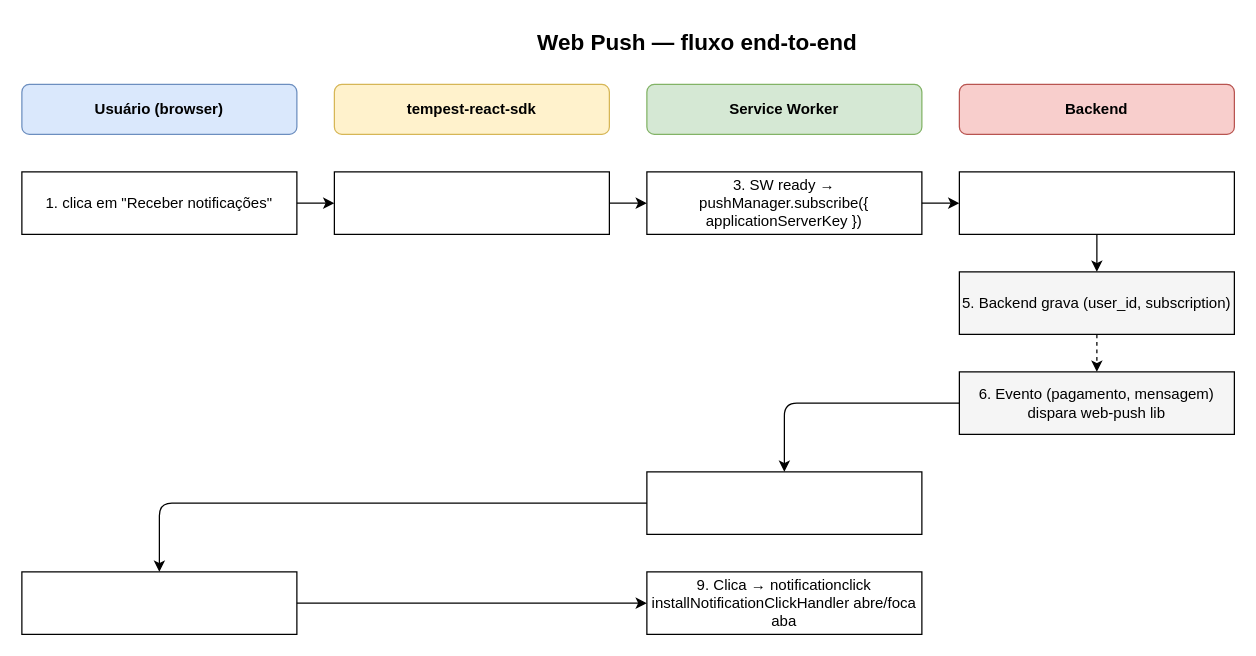
Some shapes in this 1256 by 656 pixel diagram are drawn without their labels. Each missing label, with the centre of its shape:
2. push.subscribe() Notification.requestPermission(): point 471,202
4. onSubscribe(subscription.toJSON()) POST /webpush/subscribe: point 1096,202
7. push event chega no SW installPushHandler → showNotification: point 784,502
8. Usuário vê notificação OS-level: point 159,602
